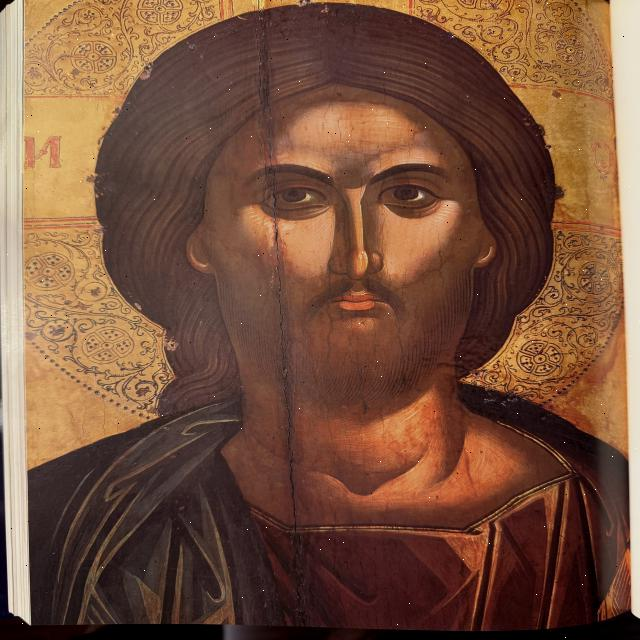aura: (29, 1, 601, 432)
christ: (32, 1, 612, 622)
